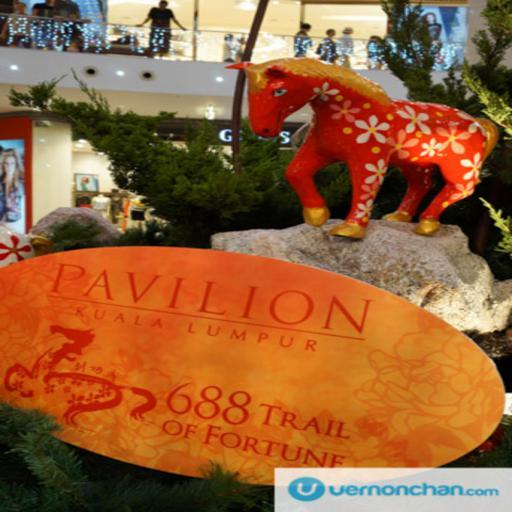Horse: (230, 59, 499, 241)
